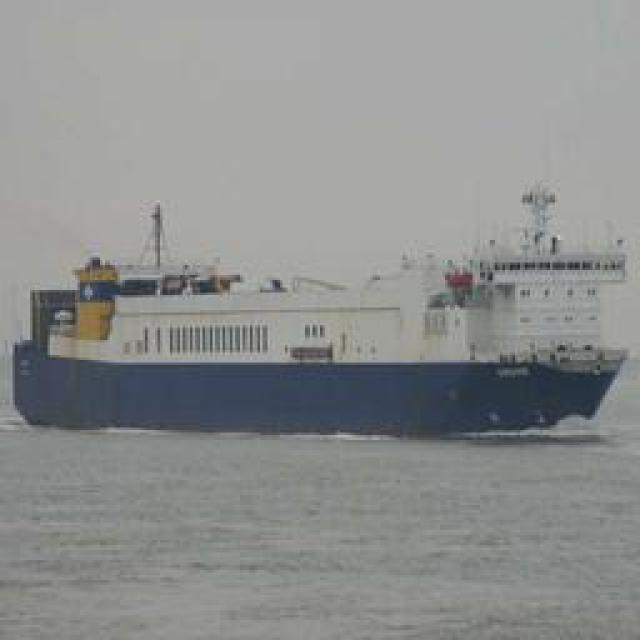Ship: (14, 239, 634, 429)
